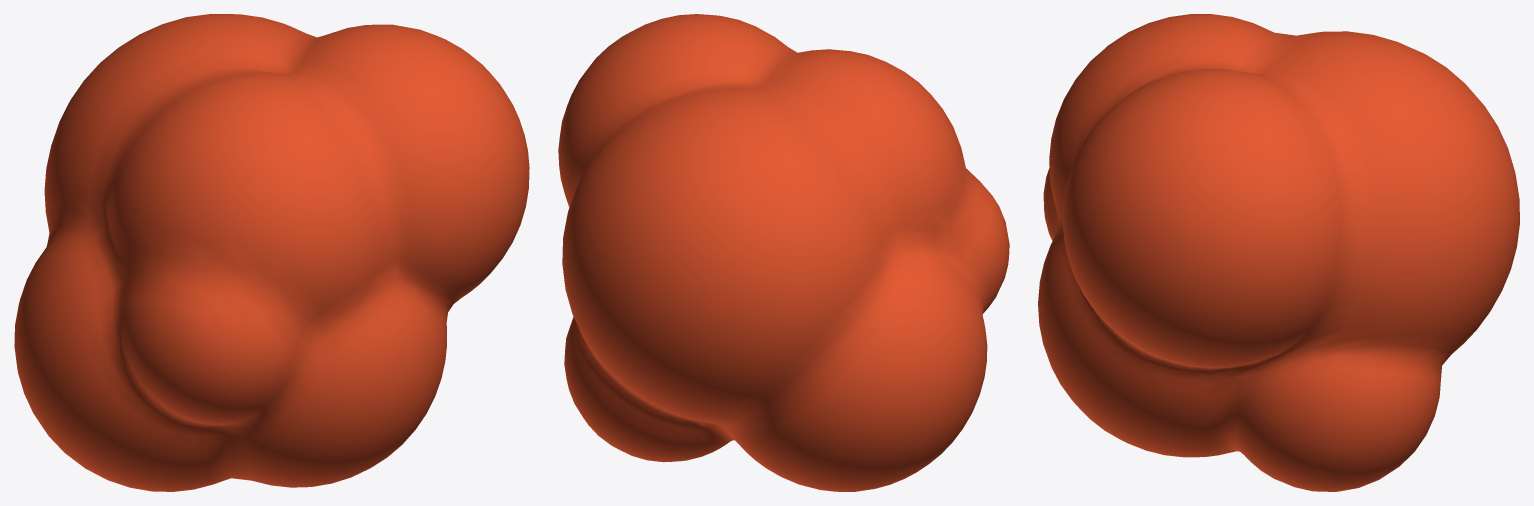
File: fart2.fbx
3 renders of one model, left to right at view 1: azimuth 30°, elevation 25°; view 2: azimuth 150°, elevation 25°; view 3: azimuth 270°, elevation 25°, orthographic. The views are drawn at different scales.
Visible parts, largest first — view 1: Group51654; view 2: Group51654; view 3: Group51654.
Boxes of the visible parts, bbox=[...] form: Group51654: bbox=[14, 14, 529, 491]; Group51654: bbox=[558, 14, 1009, 491]; Group51654: bbox=[1038, 14, 1519, 491].
Bounding box in the file's own units: 38.6 × 34.4 × 35.79.
1 material, 1 textured.
